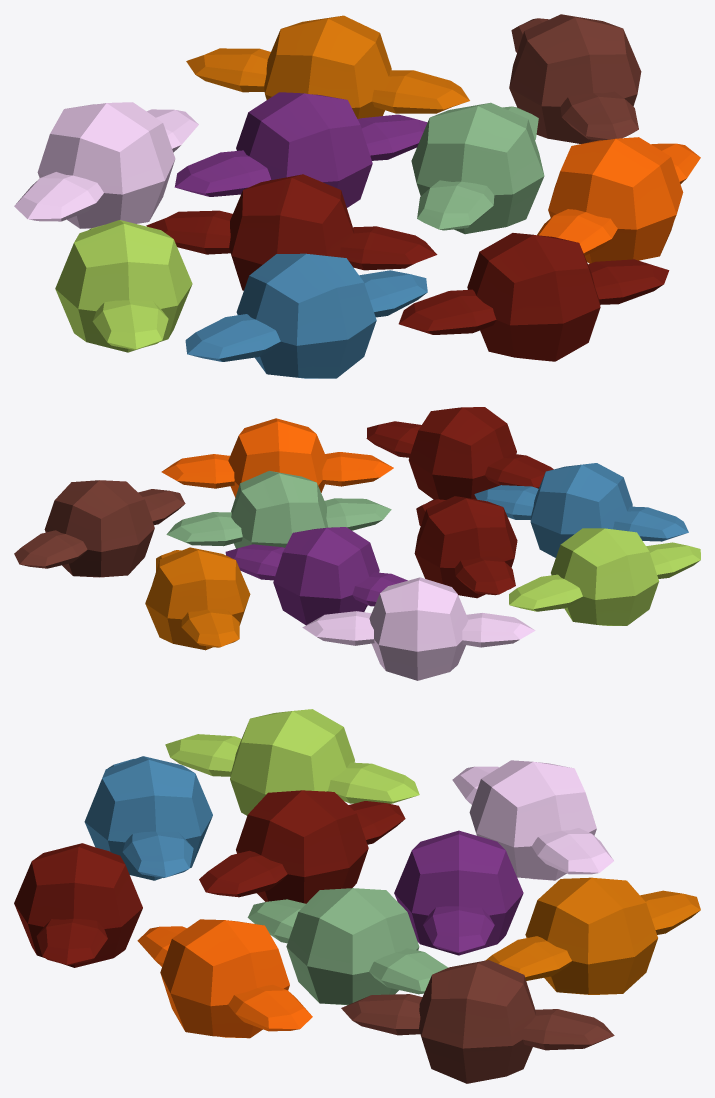
Rendered from Confet.fbx.
3 renders of one model, top to bottom at view 1: azimuth 30°, elevation 25°; view 2: azimuth 150°, elevation 25°; view 3: azimuth 270°, elevation 25°, orthographic. The views are drawn at different scales.
Visible parts, largest first — view 1: Cube.022; view 2: Cube.022; view 3: Cube.022.
Part boxes in pixels (x1,y1,x2,y2): Cube.022: (14,14,700,378); Cube.022: (14,407,700,680); Cube.022: (14,709,700,1083).
Bounding box in the file's own units: 62.4 × 10.99 × 58.26.
